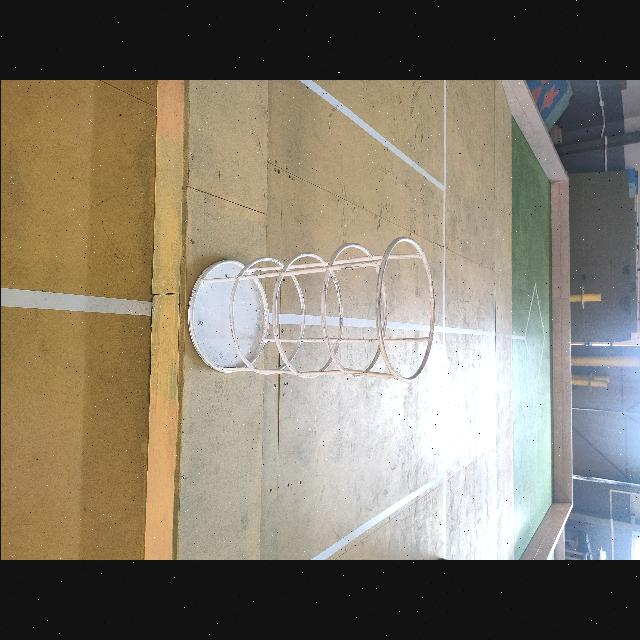S: (182, 236, 442, 383)
